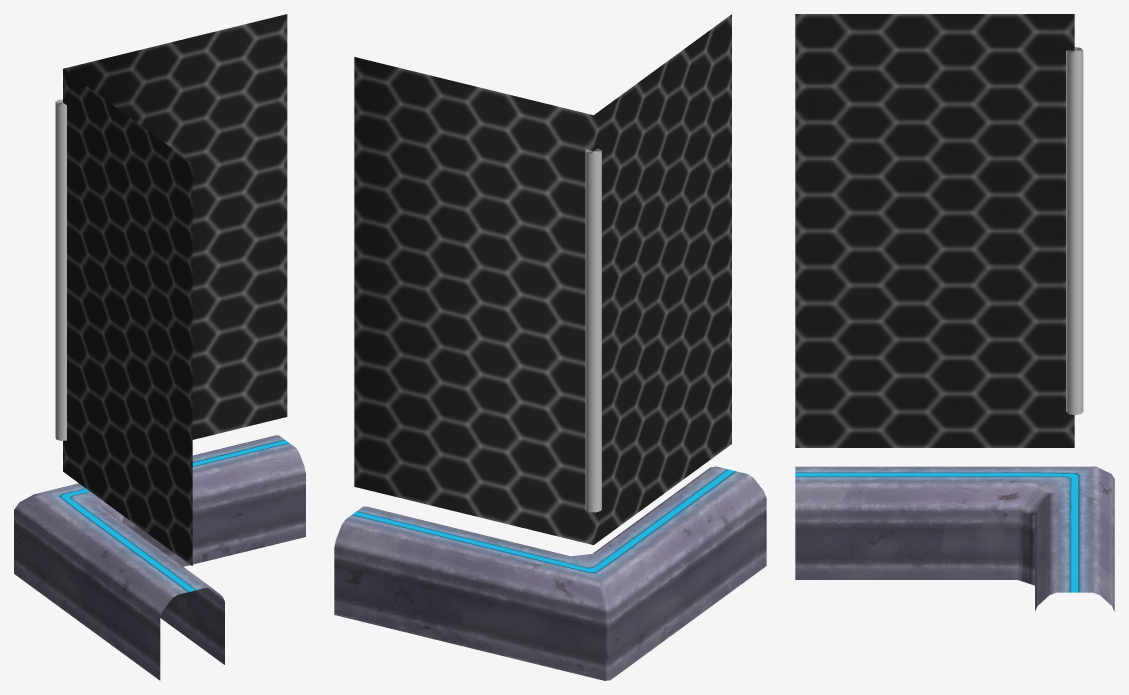
File: SM_Bleachers_Wall_Curve_Inner.fbx
3 renders of one model, left to right at view 1: azimuth 30°, elevation 25°; view 2: azimuth 150°, elevation 25°; view 3: azimuth 270°, elevation 25°, orthographic. The views are drawn at different scales.
Visible parts, largest first — view 1: SM_Bleachers_Wall_Curve_Inner; view 2: SM_Bleachers_Wall_Curve_Inner; view 3: SM_Bleachers_Wall_Curve_Inner.
Boxes of the visible parts, x1,y1,x2,y2 form: SM_Bleachers_Wall_Curve_Inner: [14, 14, 305, 680]; SM_Bleachers_Wall_Curve_Inner: [334, 14, 766, 680]; SM_Bleachers_Wall_Curve_Inner: [795, 14, 1114, 611].
Bounding box in the file's own units: 400 × 759 × 400.
